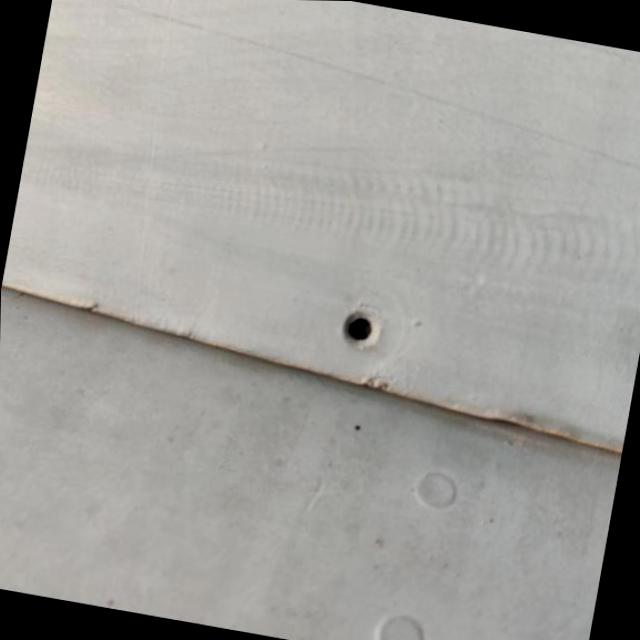Missing Fastener: (336, 296, 396, 362)
